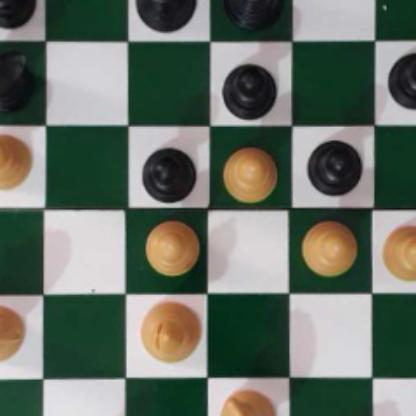black-bishop: (134, 0, 198, 31), (222, 0, 286, 30)
black-knight: (0, 47, 31, 113)
black-pawn: (220, 56, 279, 118), (140, 142, 198, 201), (307, 135, 362, 196), (388, 49, 416, 109), (0, 0, 33, 28)
white-bishop: (139, 300, 201, 360)
white-knight: (218, 386, 281, 416), (0, 303, 28, 364)
white-pawn: (217, 144, 279, 199), (300, 217, 357, 276), (144, 217, 199, 276), (381, 217, 416, 282), (0, 130, 33, 191)
